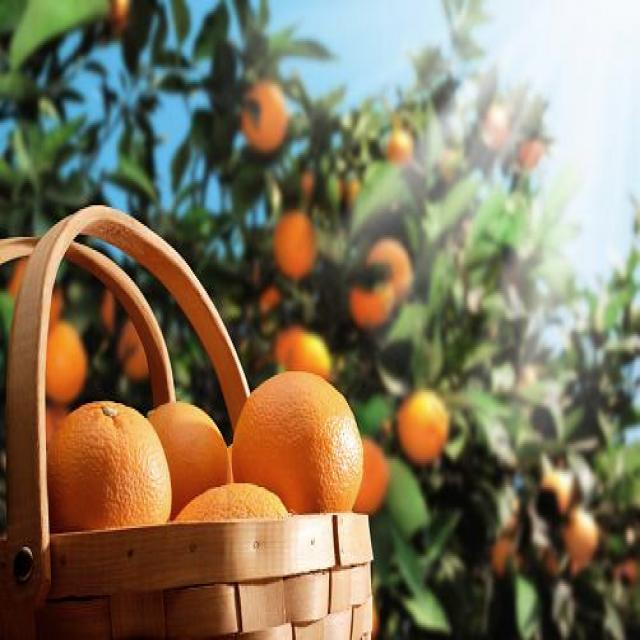Jeruk Sudah Matang: (233, 369, 362, 517), (47, 399, 170, 526), (146, 402, 232, 510), (173, 485, 290, 528), (398, 390, 446, 461), (243, 80, 286, 153), (44, 328, 86, 402), (366, 241, 412, 306), (347, 442, 388, 513), (274, 214, 315, 274), (349, 276, 392, 330), (289, 334, 329, 381), (121, 323, 144, 377), (276, 323, 302, 364)
